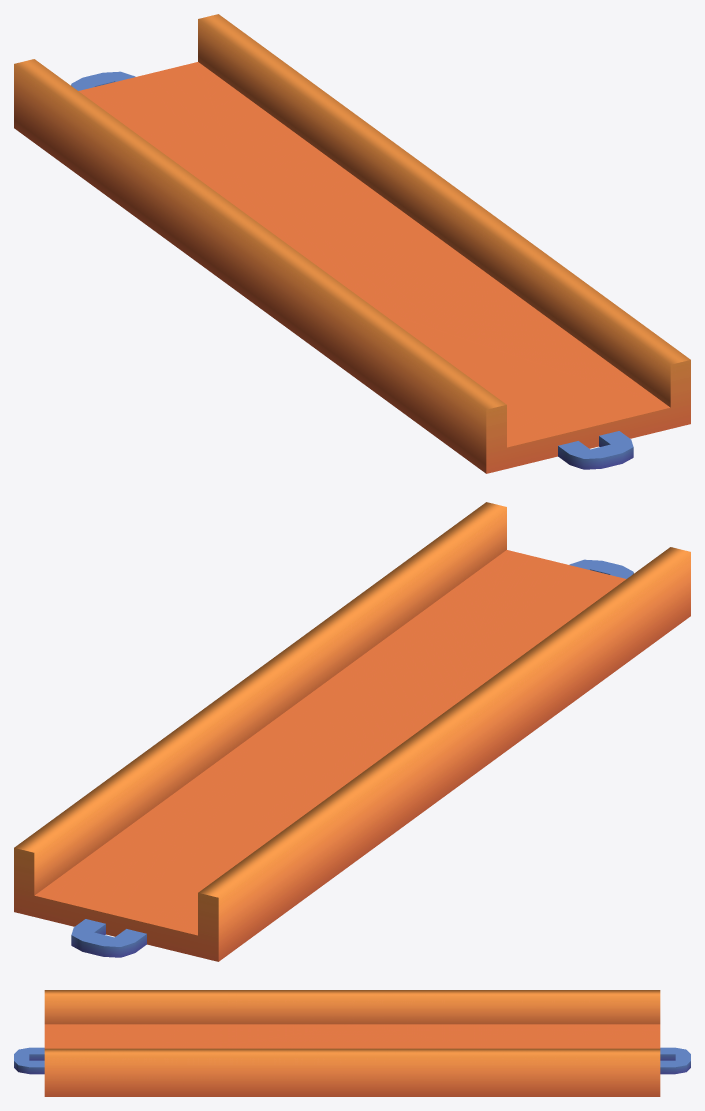
Rendered from track-narrow-straight.glb.
3 views of the same model, one above another, from view 1: azimuth 30°, elevation 25°; view 2: azimuth 150°, elevation 25°; view 3: azimuth 270°, elevation 25° (orthographic). The views are drawn at different scales.
Parts seen in each view (by area): view 1: track-narrow-straight; view 2: track-narrow-straight; view 3: track-narrow-straight.
Boxes of the visible parts, box(x1,y1,x2,y2) form: track-narrow-straight: box(14, 14, 690, 473); track-narrow-straight: box(14, 502, 690, 961); track-narrow-straight: box(14, 990, 690, 1096).
Bounding box in the file's own units: 0.9999 × 0.3 × 4.4.
1 material, 1 textured.
